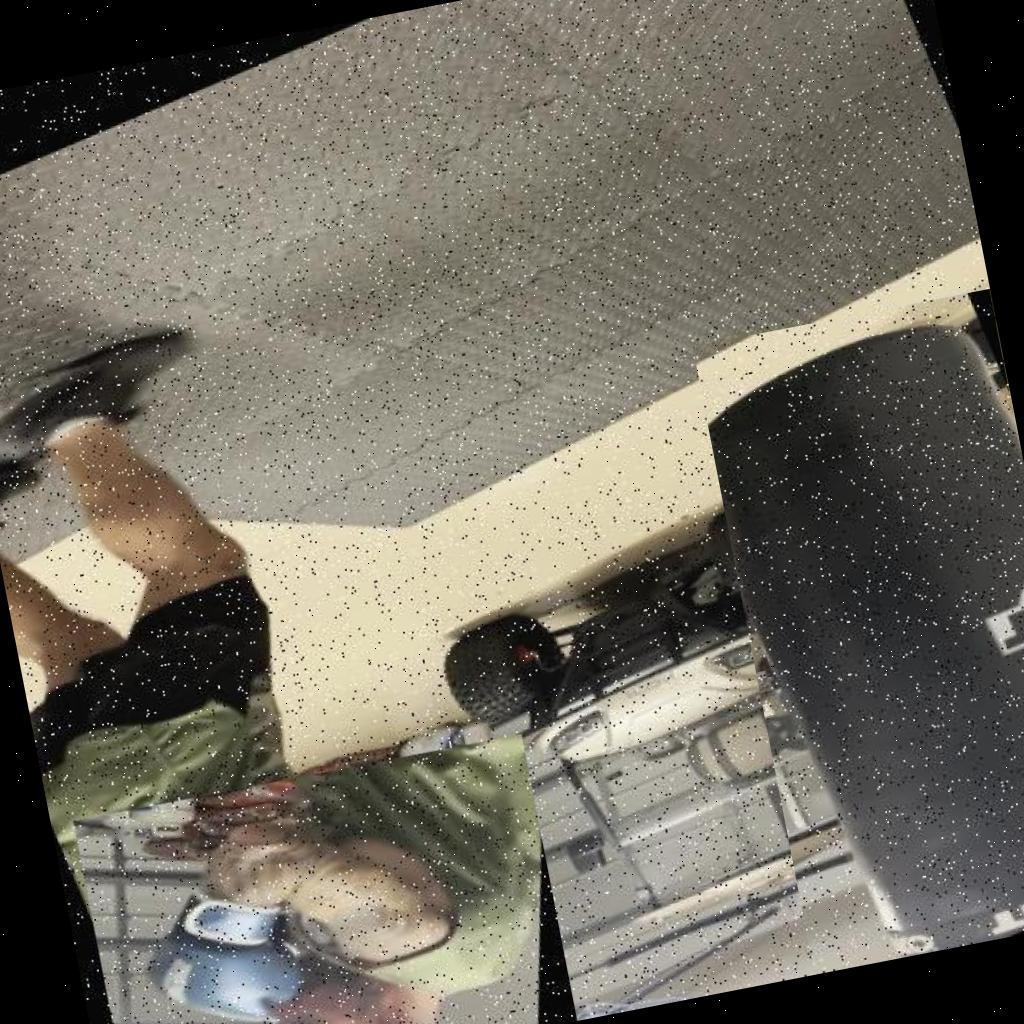bag: (693, 288, 1024, 974)
no punch: (72, 734, 575, 1024)
